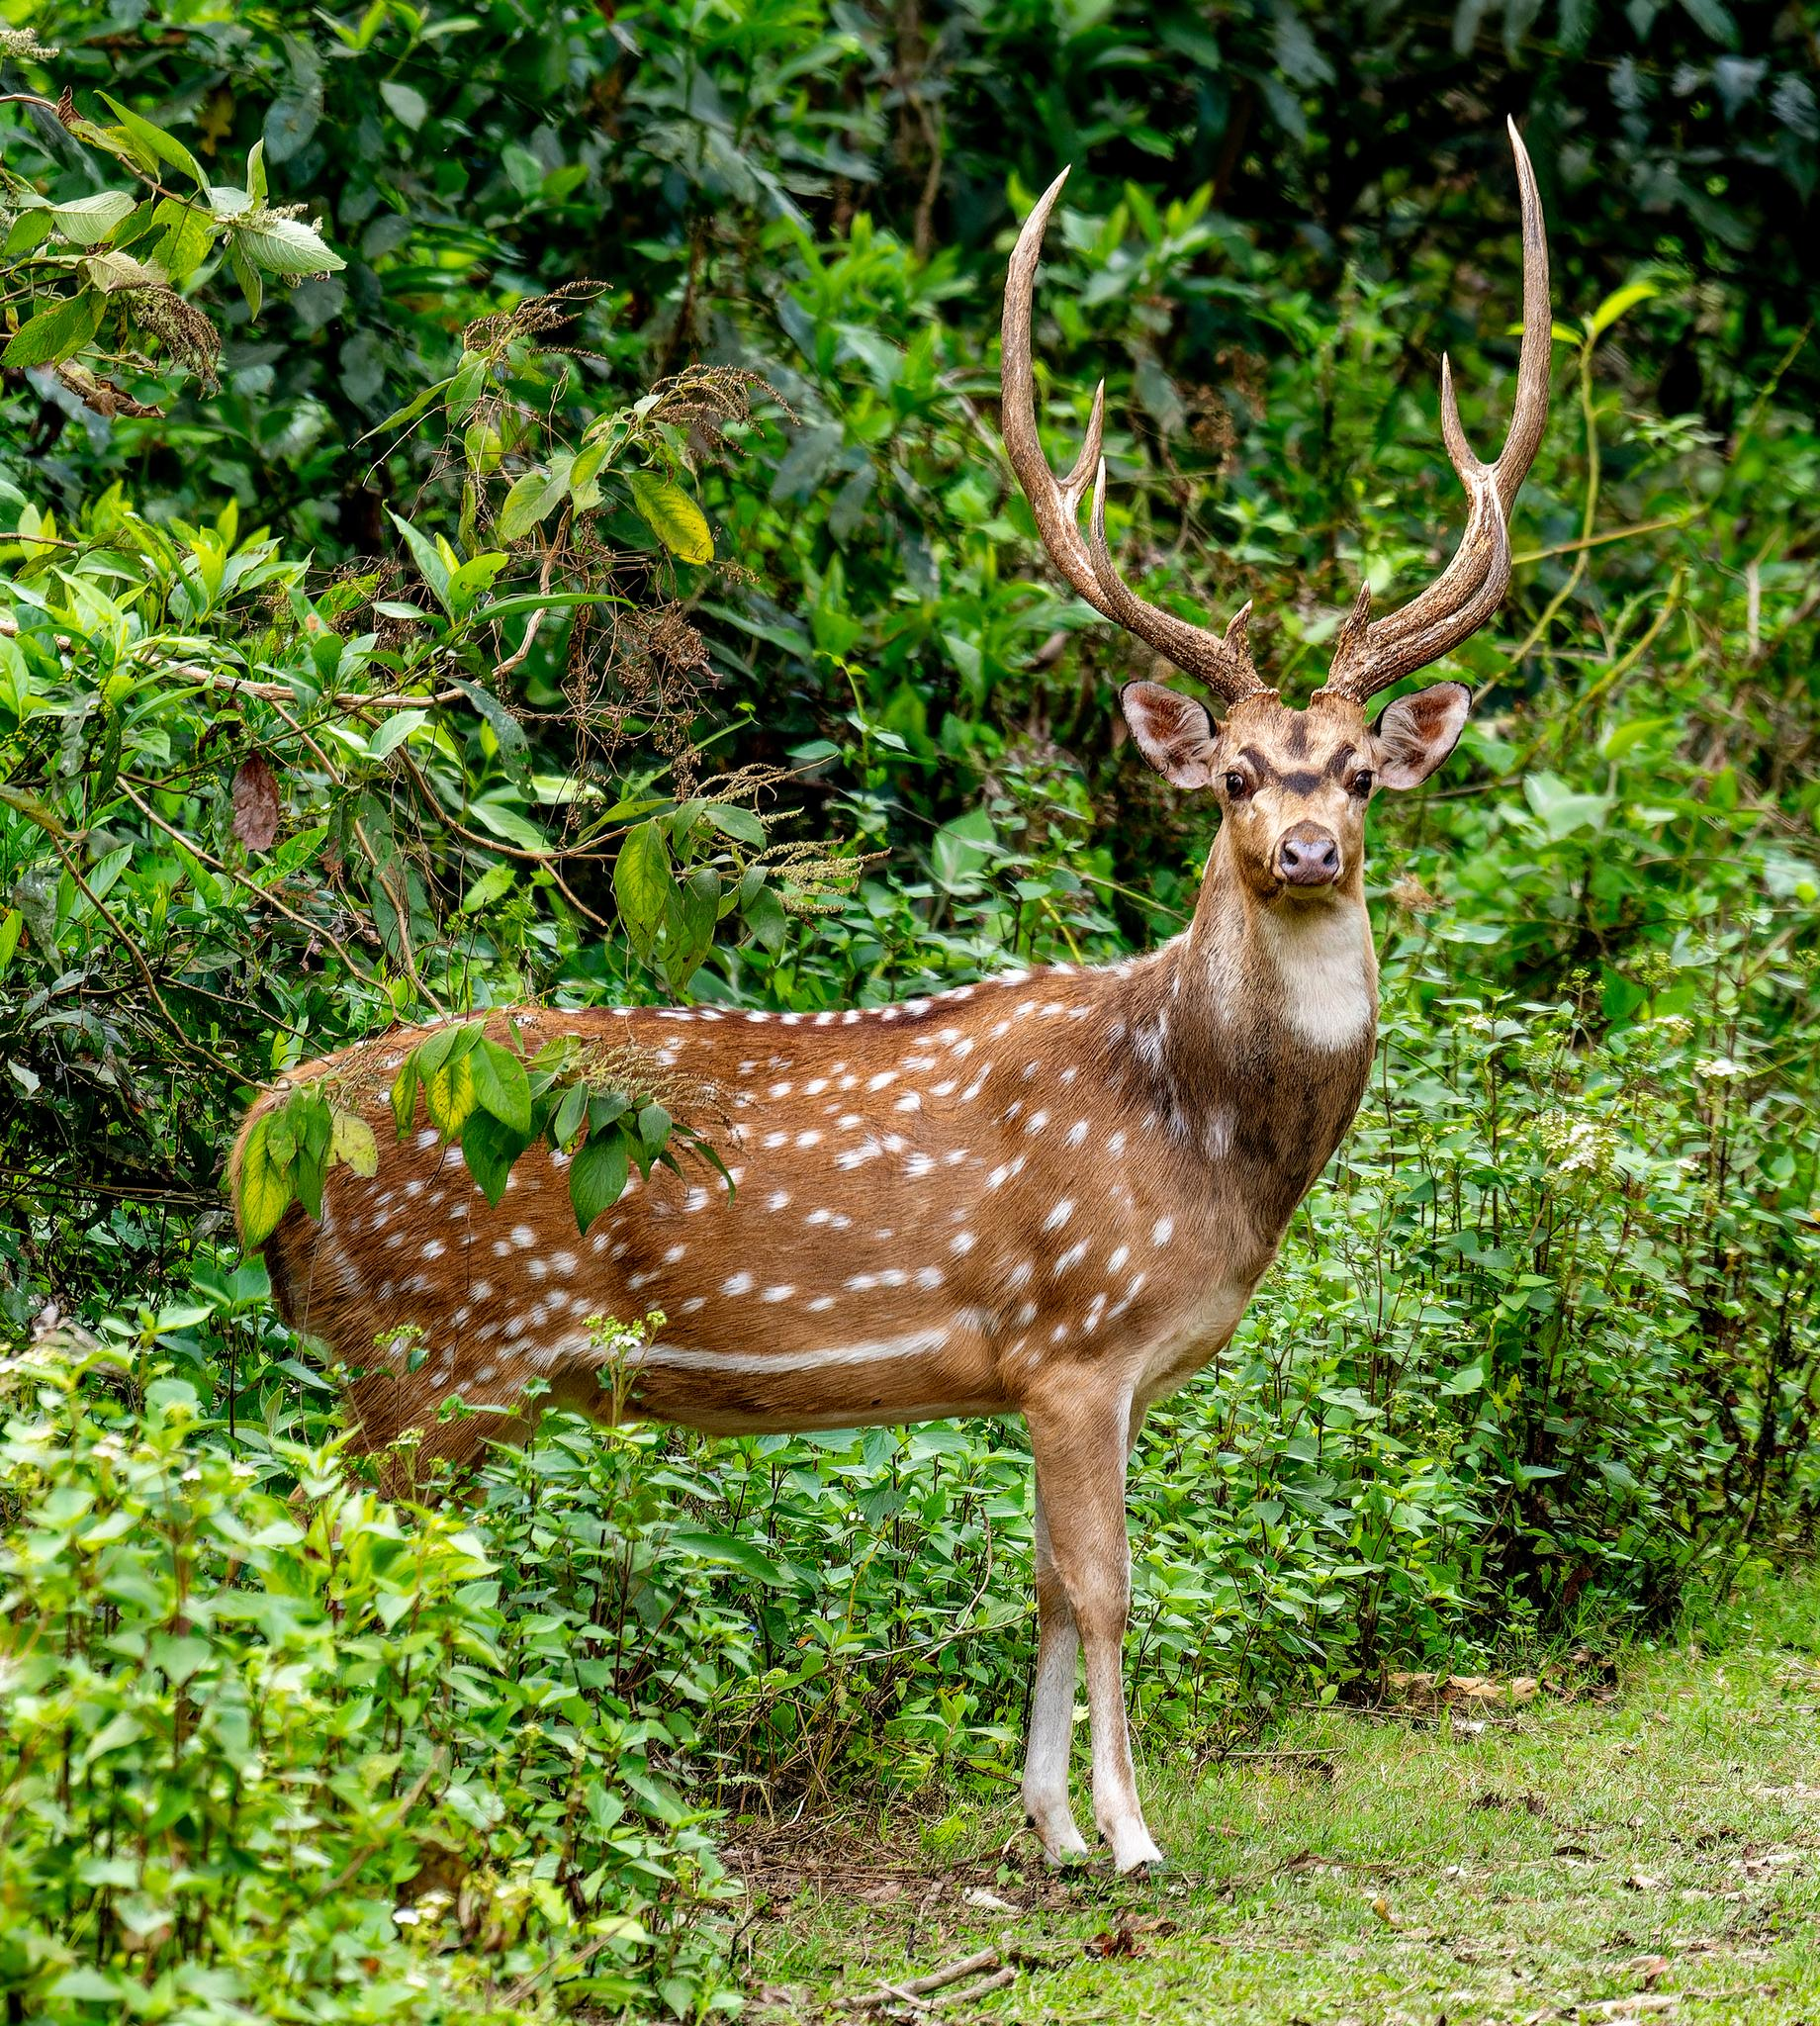Deer: (230, 123, 1549, 1868)
